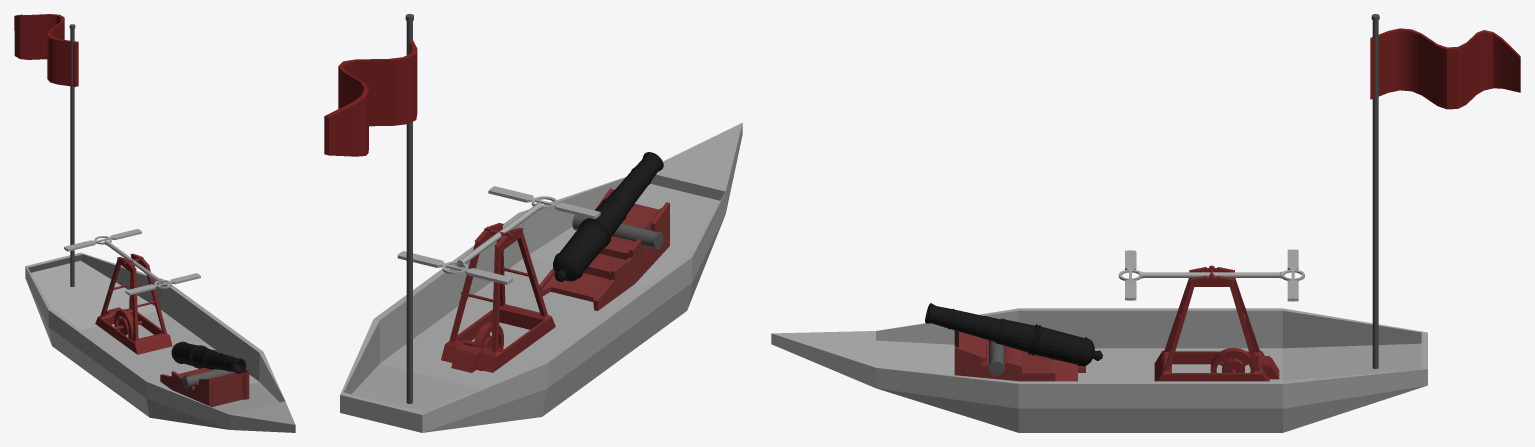
File: BattleshipModel.fbx
3 renders of one model, left to right at view 1: azimuth 30°, elevation 25°; view 2: azimuth 150°, elevation 25°; view 3: azimuth 270°, elevation 25°, orthographic. The views are drawn at different scales.
Parts seen in each view (by area): view 1: boat, flag, pump, canon_base, canon, handles, flag_pole, wheel, pCylinder2; view 2: boat, flag, pump, canon_base, canon, handles, flag_pole, pCylinder2, wheel; view 3: boat, flag, pump, canon, canon_base, flag_pole, handles, wheel.
Part boxes in pixels (x1,y1,x2,y2): boat: (25, 252, 295, 432); flag: (14, 14, 78, 86); pump: (95, 253, 172, 354); canon_base: (160, 368, 249, 407); canon: (171, 341, 246, 373); handles: (64, 229, 200, 295); flag_pole: (69, 24, 75, 286); wheel: (114, 309, 142, 340); pCylinder2: (182, 369, 234, 388); boat: (340, 122, 742, 432); flag: (324, 40, 417, 156); pump: (441, 223, 555, 372); canon_base: (539, 188, 669, 310); canon: (553, 152, 663, 281); handles: (397, 186, 600, 284); flag_pole: (405, 14, 413, 403); pCylinder2: (572, 214, 663, 249); wheel: (462, 322, 503, 371); boat: (771, 308, 1427, 432); flag: (1370, 28, 1520, 109); pump: (1154, 265, 1279, 381); canon: (925, 303, 1102, 366); canon_base: (954, 330, 1085, 381); flag_pole: (1371, 14, 1379, 368); handles: (1118, 249, 1304, 301); wheel: (1210, 348, 1253, 372).
Size of the model in its own units: 3.79 by 8.71 by 15.52.
